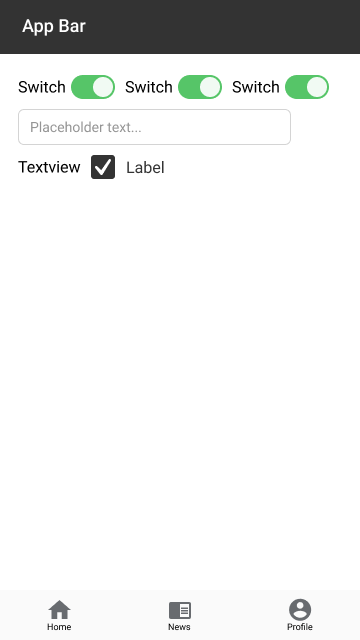checkBox: (88, 152, 167, 181)
editText: (18, 108, 295, 148)
navigationButton: (1, 591, 360, 638)
switch: (16, 72, 118, 101), (124, 74, 225, 100), (230, 75, 330, 100)
textView: (18, 157, 80, 175)
toolbar: (1, 1, 360, 55)
